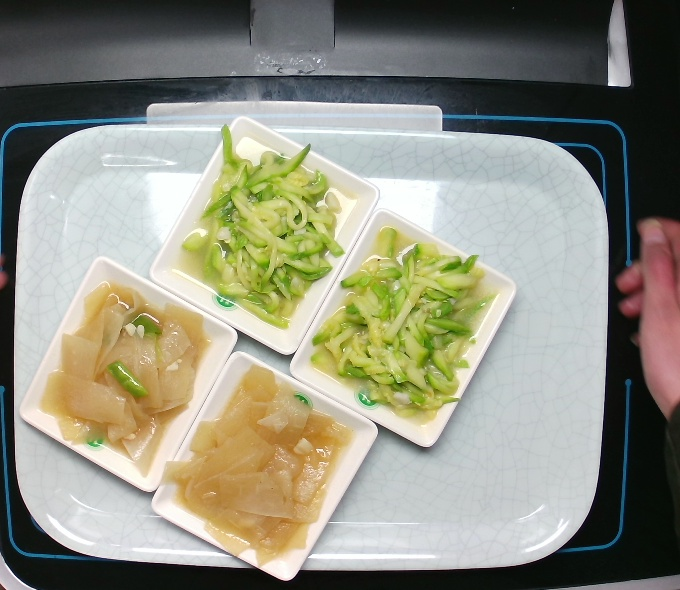wcq-LuoBo: (172, 363, 354, 568), (32, 275, 218, 474)
wcq-NenNanGua: (304, 214, 493, 423), (180, 114, 350, 333)
